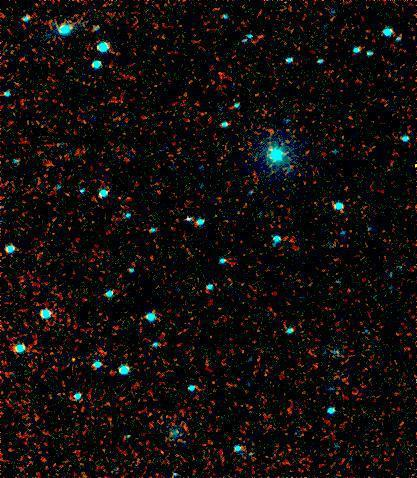star: (58, 345, 88, 375)
